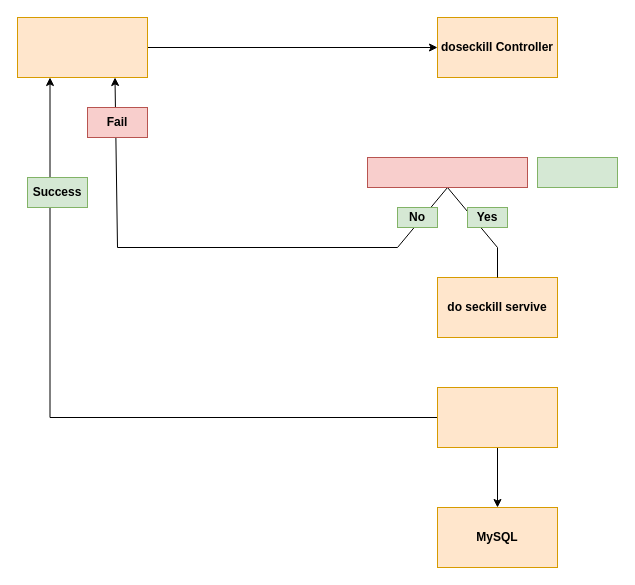
Some shapes in this 635 by 585 pixel diagram are drawn without their labels. The centre of each missing label's shape, as x and y in pixels:
Checkl if the order is legal: pixel 447 172
Generate order; Reduce stock: pixel 497 417
Use Mapper: pixel 577 172
User Seckill Request: pixel 82 47
